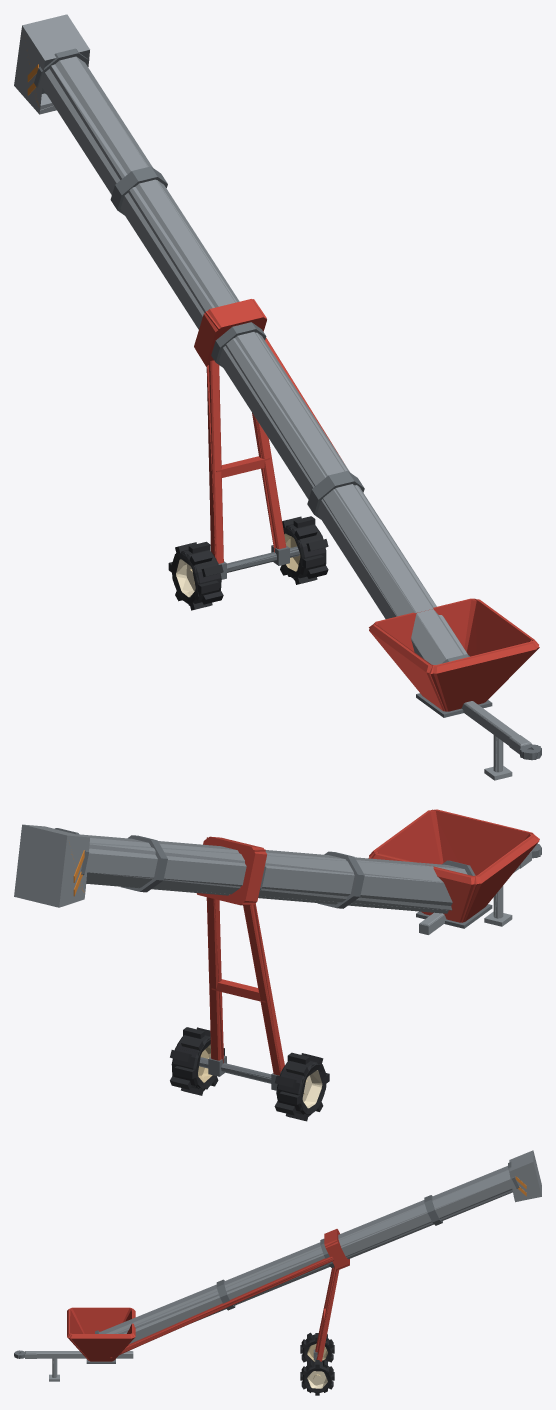
File: FMS_Mach_GrainAuger.fbx
3 renders of one model, top to bottom at view 1: azimuth 30°, elevation 25°; view 2: azimuth 150°, elevation 25°; view 3: azimuth 270°, elevation 25°, orthographic. The views are drawn at different scales.
Parts seen in each view (by area): view 1: Frame, Frame_Low1, Wheel_R, Wheel_L, Wheel_R_Low1; view 2: Frame, Frame_Low1, Wheel_R, Wheel_L, Wheel_R_Low1, Wheel_L_Low1; view 3: Frame, Frame_Low1, Wheel_L, Wheel_R, Wheel_L_Low1.
Part boxes in pixels (bbox=[...]): Frame: bbox=[14, 14, 541, 780]; Frame_Low1: bbox=[14, 15, 540, 772]; Wheel_R: bbox=[168, 542, 223, 610]; Wheel_L: bbox=[280, 516, 328, 584]; Wheel_R_Low1: bbox=[169, 542, 223, 604]; Frame: bbox=[14, 809, 541, 1090]; Frame_Low1: bbox=[14, 809, 541, 1090]; Wheel_R: bbox=[274, 1053, 329, 1121]; Wheel_L: bbox=[170, 1027, 224, 1095]; Wheel_R_Low1: bbox=[275, 1052, 326, 1120]; Wheel_L_Low1: bbox=[171, 1027, 224, 1095]; Frame: bbox=[14, 1150, 541, 1381]; Frame_Low1: bbox=[14, 1151, 541, 1377]; Wheel_L: bbox=[300, 1359, 334, 1395]; Wheel_R: bbox=[300, 1332, 334, 1362]; Wheel_L_Low1: bbox=[300, 1360, 334, 1394].
Bounding box in the file's own units: 1.6 × 5.01 × 10.74.
